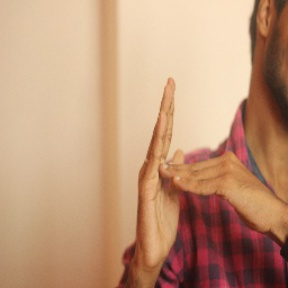Z: (125, 71, 283, 266)
